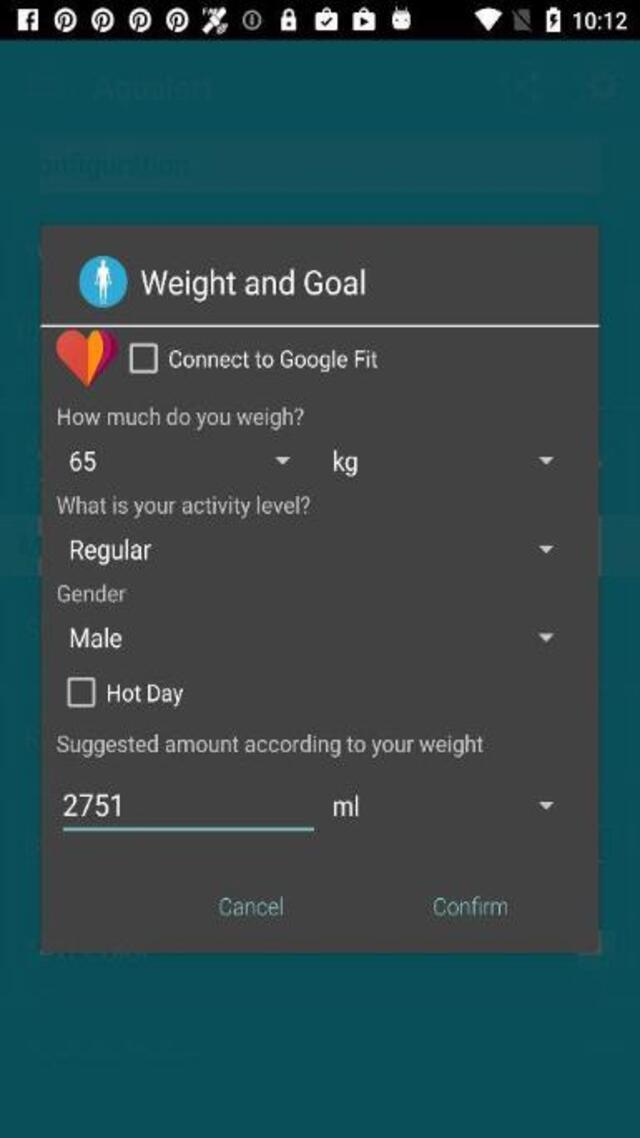CheckedTextView: (128, 342, 376, 372), (67, 677, 182, 706)
Icon: (275, 456, 290, 465), (538, 632, 552, 641), (538, 799, 552, 808), (538, 457, 552, 464), (538, 546, 552, 553)
Image: (56, 329, 116, 386), (79, 255, 127, 307)
Text: (57, 732, 486, 757), (55, 490, 311, 520), (139, 270, 370, 302), (168, 348, 376, 374), (56, 408, 302, 429), (71, 538, 152, 564), (107, 684, 182, 705), (434, 895, 507, 915), (58, 582, 126, 602), (62, 794, 120, 817), (220, 895, 282, 915), (72, 626, 120, 646), (332, 449, 359, 479), (70, 450, 96, 472), (334, 795, 358, 816)
